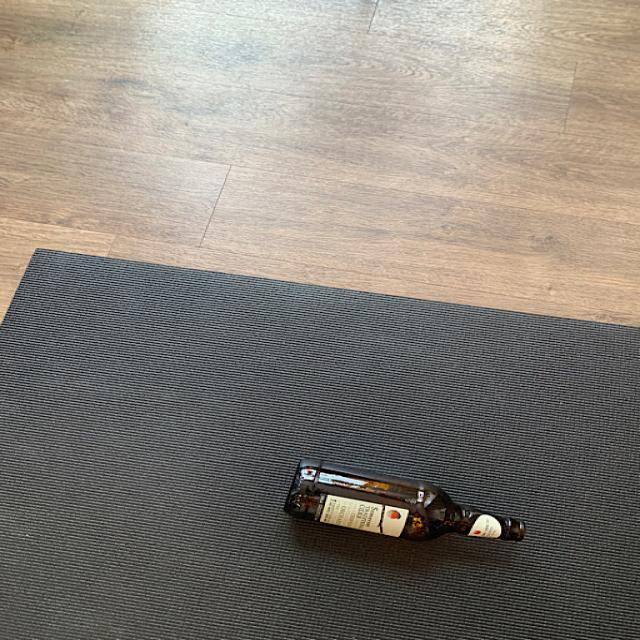litter: (282, 458, 532, 548)
